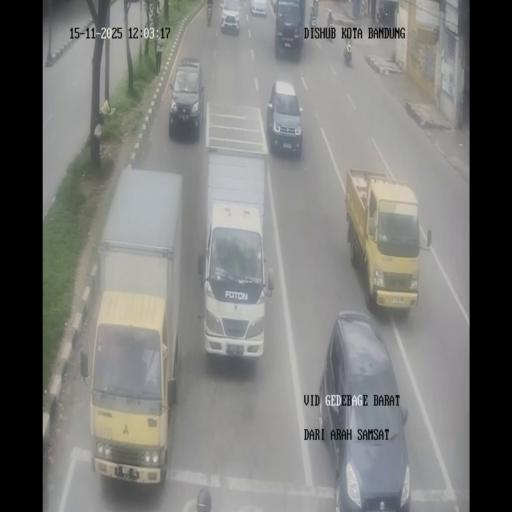car: (319, 313, 409, 508), (168, 55, 204, 139), (266, 80, 303, 159), (220, 0, 242, 34), (250, 0, 268, 17)
motorcycle: (344, 42, 352, 66), (376, 6, 384, 22), (327, 8, 333, 29), (310, 13, 316, 29)
truck: (87, 167, 185, 482), (200, 108, 272, 364), (345, 168, 424, 315), (274, 0, 305, 59)
